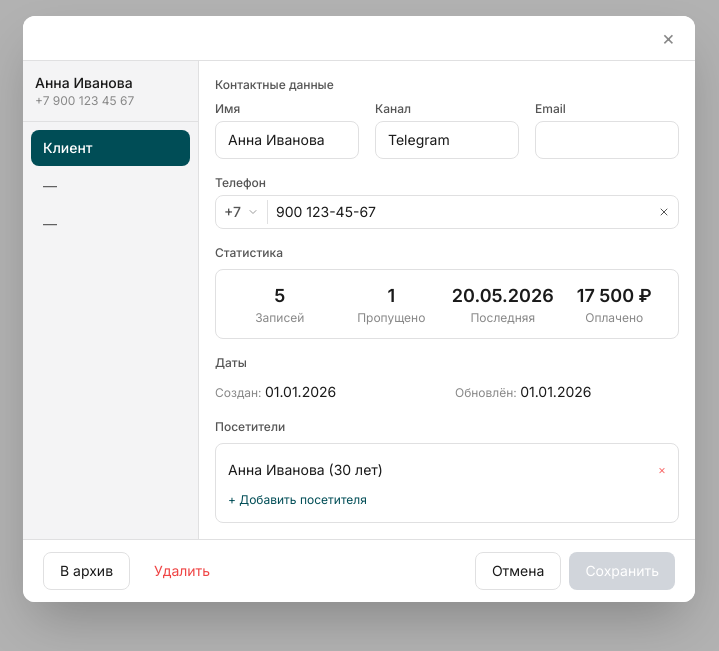
it: ClientCardModal ↔ ClientInfoTab integration (real components) › save button enables after phone change
Expected: the button "Сохранить" is disabled, [569,552,675,590]
Replace the text in the field labelled "Телефон" with "9991112233": point(459, 212) [268,196,650,228]
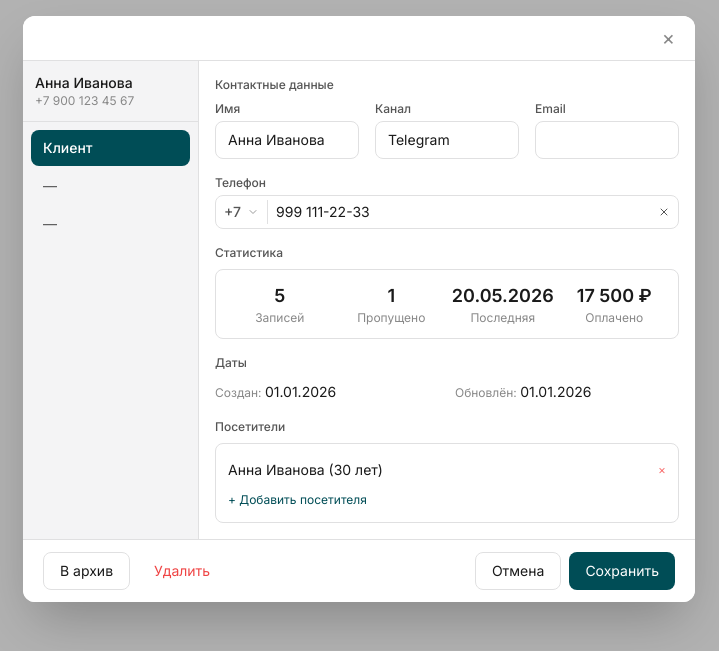
Now the button "Сохранить" is enabled, box [569,552,675,590]
